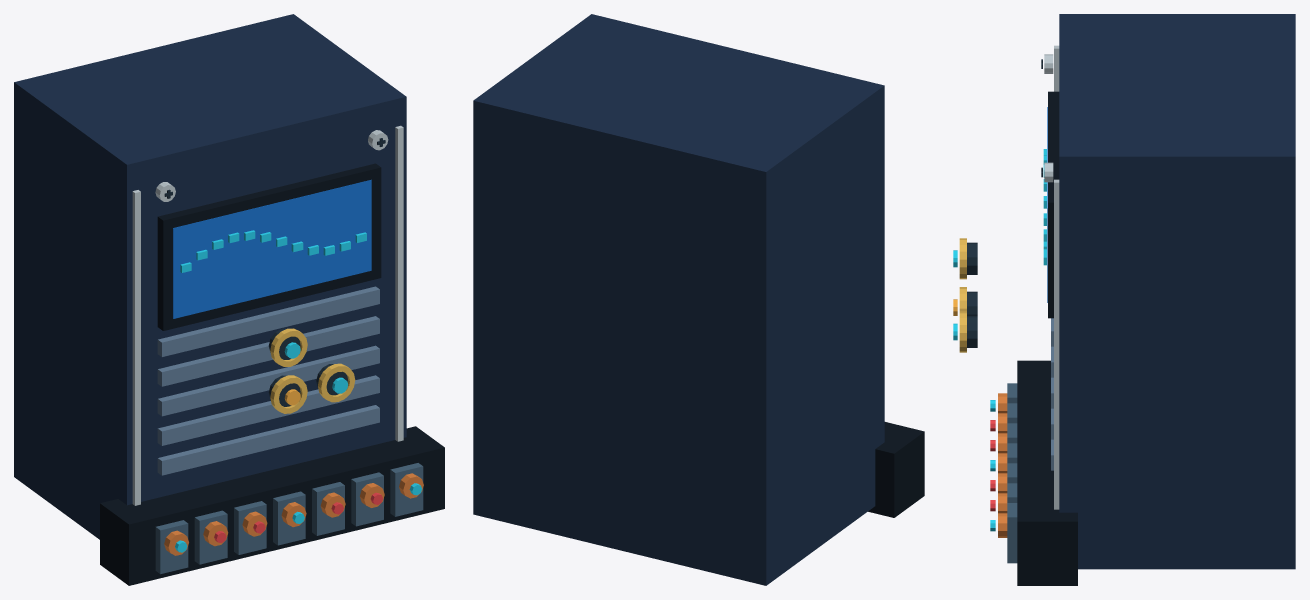
Rendered from 33_L83_HighSpeedPowerTransientRecorder.fbx.
3 views of the same model, side by side, from view 1: azimuth 30°, elevation 25°; view 2: azimuth 150°, elevation 25°; view 3: azimuth 270°, elevation 25° (orthographic). The views are drawn at different scales.
Parts seen in each view (by area): view 1: HighSpeedPowerTransientRecorder; view 2: HighSpeedPowerTransientRecorder; view 3: HighSpeedPowerTransientRecorder.
Boxes of the visible parts, left/top/right/bottom form: HighSpeedPowerTransientRecorder: left=14, top=14, right=444, bottom=585; HighSpeedPowerTransientRecorder: left=473, top=14, right=924, bottom=585; HighSpeedPowerTransientRecorder: left=953, top=14, right=1295, bottom=585.
Bounding box in the file's own units: 113 × 137 × 101.
